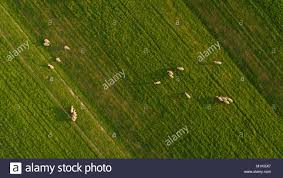sheep: (223, 96, 234, 109), (151, 79, 163, 90), (182, 90, 194, 101), (164, 69, 174, 81), (214, 94, 226, 103), (71, 112, 79, 124), (46, 61, 54, 72), (212, 59, 224, 66), (42, 36, 49, 48), (64, 44, 72, 52), (176, 66, 185, 73), (68, 104, 75, 112), (55, 56, 61, 64)
